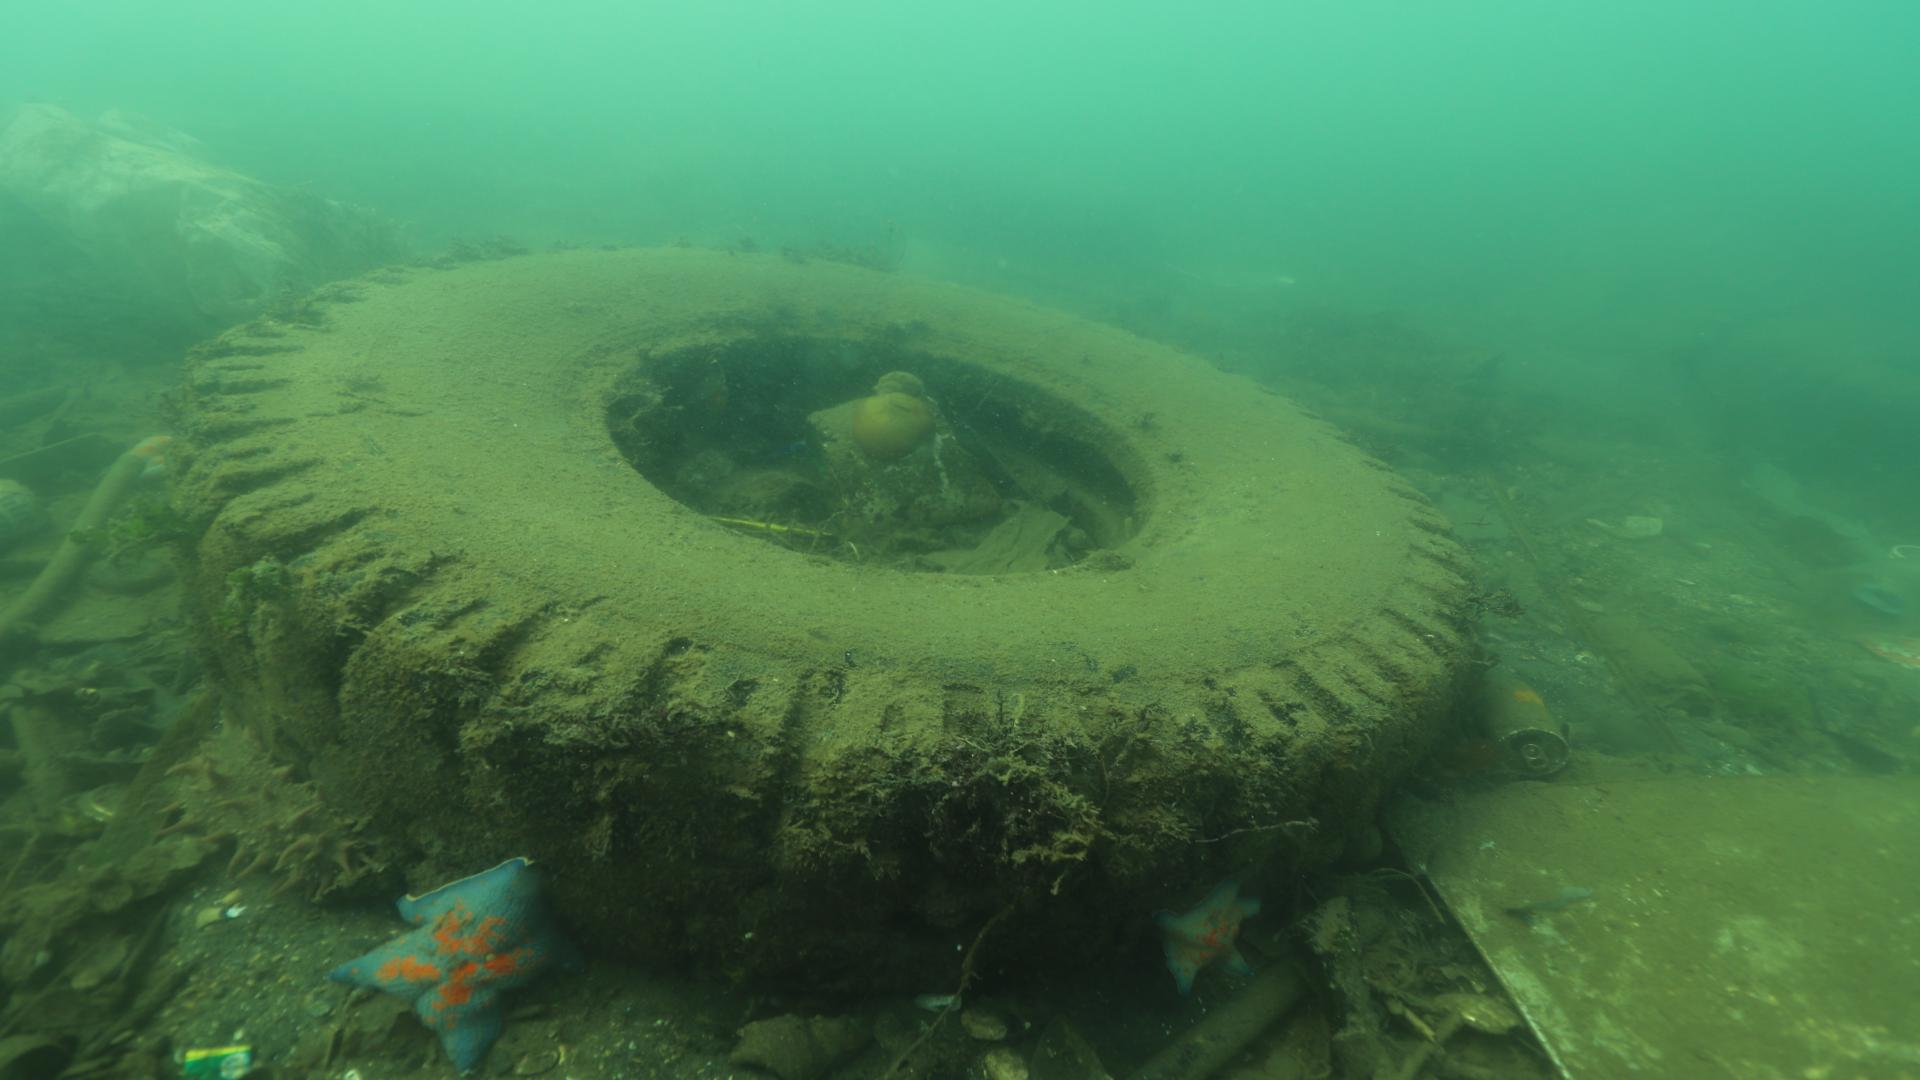tire: (181, 239, 1472, 975)
